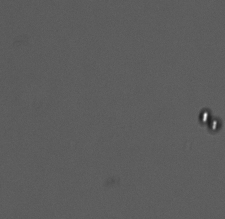Living Cell: (198, 108, 211, 124), (208, 117, 221, 133)
